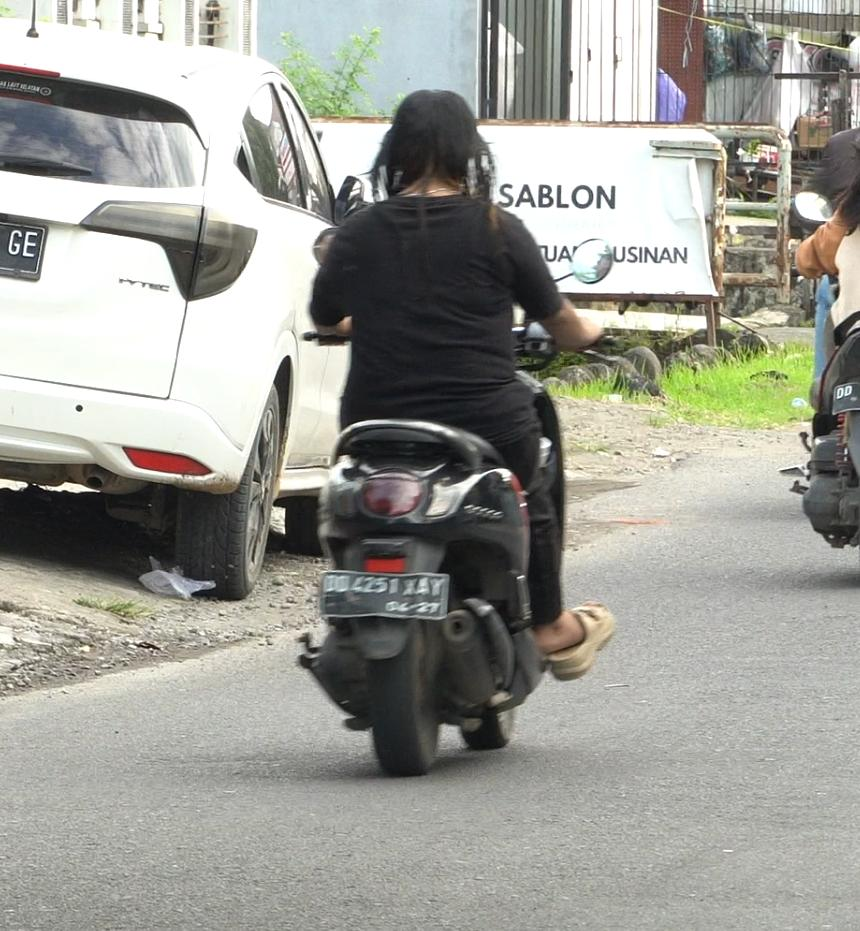number-plate: (307, 563, 454, 617)
